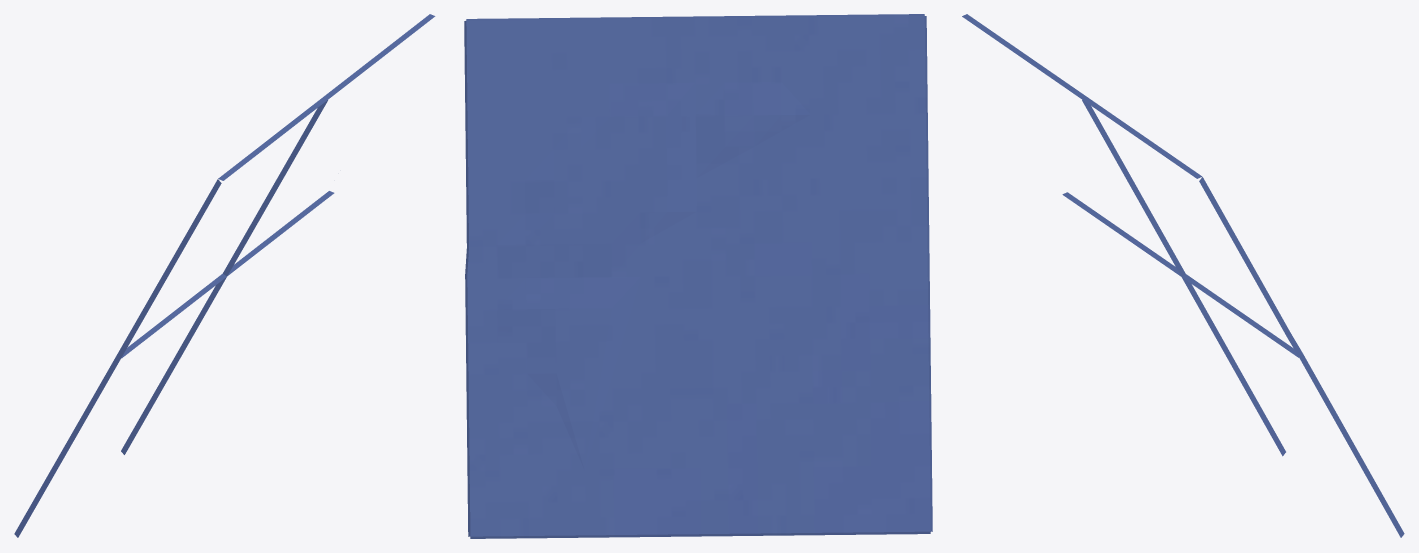
3 views of the same model, side by side, from view 1: azimuth 30°, elevation 25°; view 2: azimuth 150°, elevation 25°; view 3: azimuth 270°, elevation 25° (orthographic). The views are drawn at different scales.
Bounding box in the file's own units: 39521 × 35104 × 34182.
Materials: 1 (1 with a texture image).
